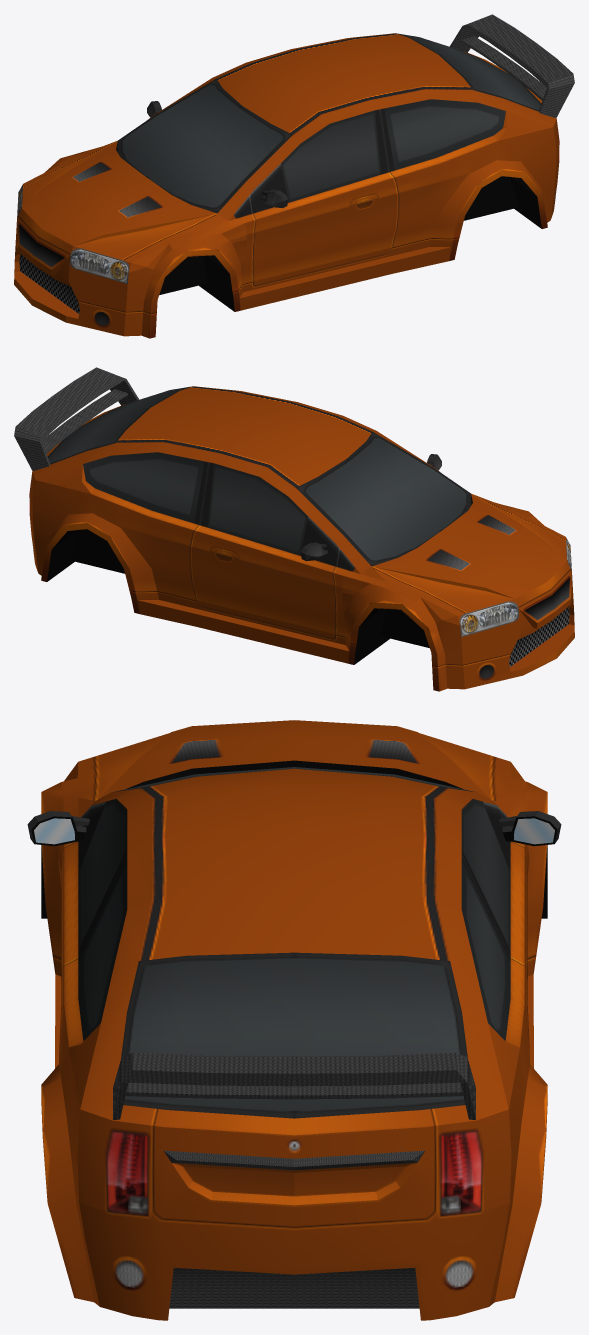
The model's file is SkinStreetPerformance.FBX.
3 renders of one model, top to bottom at view 1: azimuth 30°, elevation 25°; view 2: azimuth 150°, elevation 25°; view 3: azimuth 270°, elevation 25°, orthographic. The views are drawn at different scales.
Visible parts, largest first — view 1: ChassisStreetPerformance003; view 2: ChassisStreetPerformance003; view 3: ChassisStreetPerformance003.
Part boxes in pixels (bbox=[...]): ChassisStreetPerformance003: bbox=[14, 14, 574, 338]; ChassisStreetPerformance003: bbox=[14, 367, 574, 691]; ChassisStreetPerformance003: bbox=[27, 720, 561, 1320].
Bounding box in the file's own units: 478 × 219 × 148.
